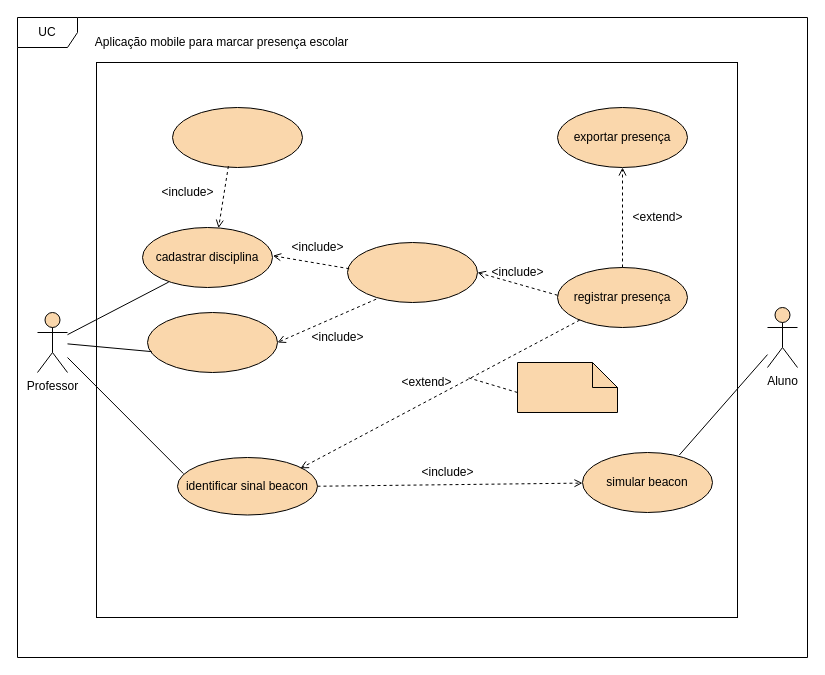
The diagram is 825 pixels wide and 675 high, and some of its shapes have lost their labels. Here are the shapes that lost their labels. From the top down, the centre of each, then its label:
point (237, 137): cadastrar aula
point (412, 272): Vincular aluno à disciplina
point (212, 342): cadastrar aluno
point (567, 387): Se o sinal for identificado
